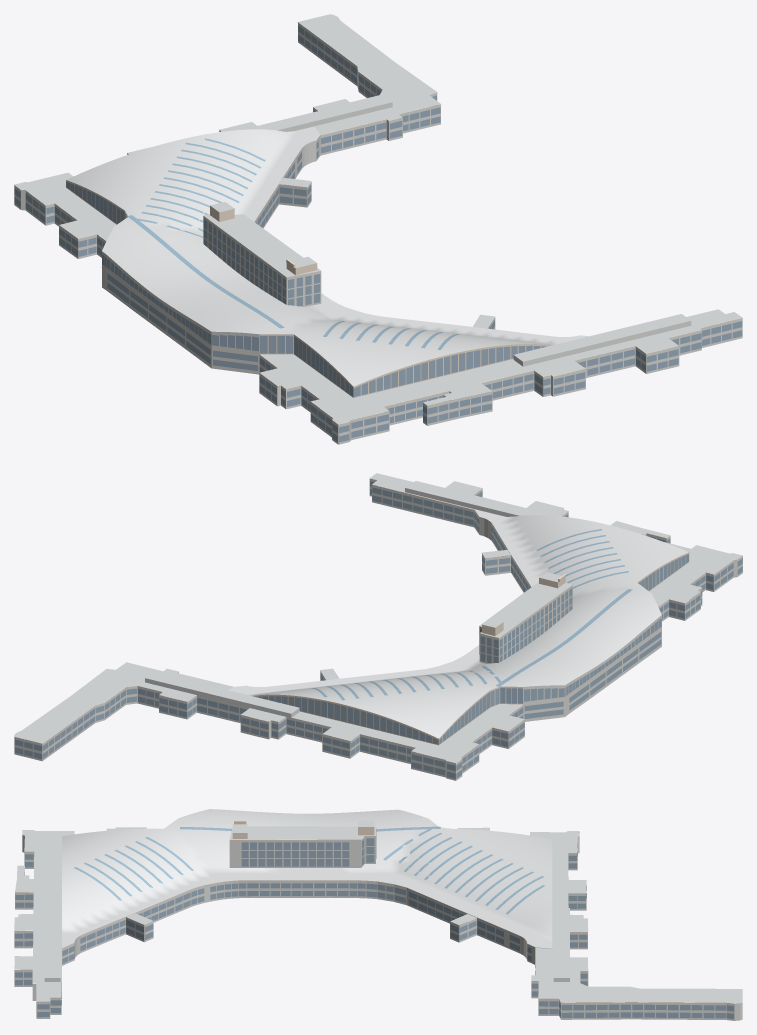
Rendered from dal-dfw-terminal-d.glb.
3 renders of one model, top to bottom at view 1: azimuth 30°, elevation 25°; view 2: azimuth 150°, elevation 25°; view 3: azimuth 270°, elevation 25°, orthographic. The views are drawn at different scales.
Parts seen in each view (by area): view 1: DFW Airport Terminal D and Grand Hyatt DFW; view 2: DFW Airport Terminal D and Grand Hyatt DFW; view 3: DFW Airport Terminal D and Grand Hyatt DFW.
Part boxes in pixels (<box>): DFW Airport Terminal D and Grand Hyatt DFW: <box>14,14,742,444</box>; DFW Airport Terminal D and Grand Hyatt DFW: <box>14,473,742,780</box>; DFW Airport Terminal D and Grand Hyatt DFW: <box>14,809,742,1020</box>.
Size of the model in its own units: 341 by 52.5 by 581.
